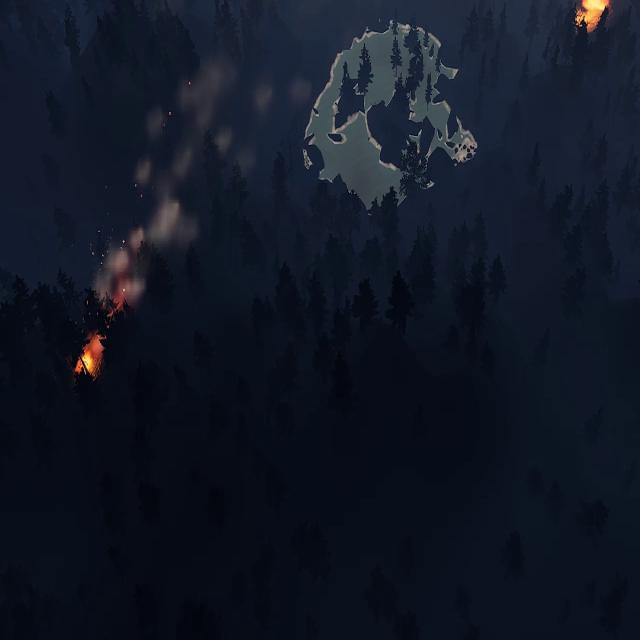fire: (76, 335, 105, 378), (576, 0, 610, 28)
smoke: (92, 51, 251, 320), (253, 79, 276, 122), (288, 76, 316, 108)
